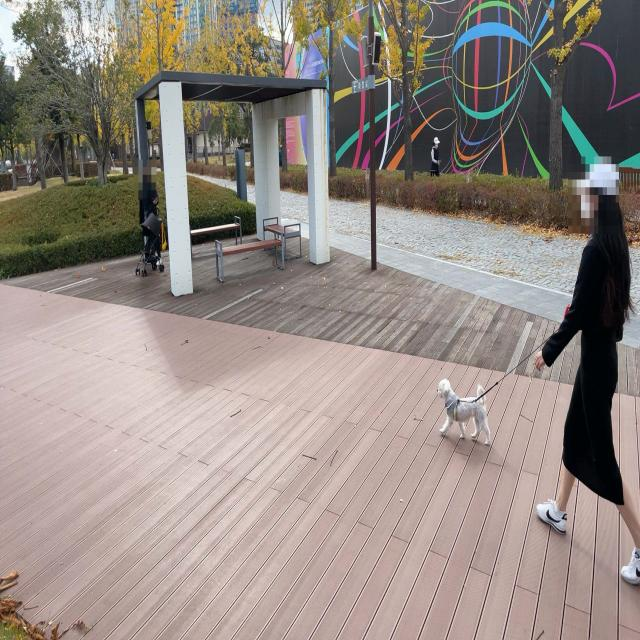Leashed_Dog: (437, 311, 587, 447)
